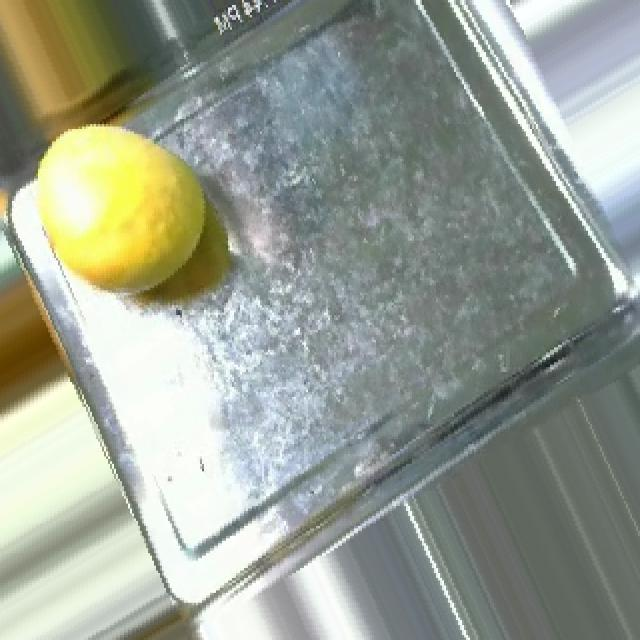fruit: (4, 77, 254, 332)
